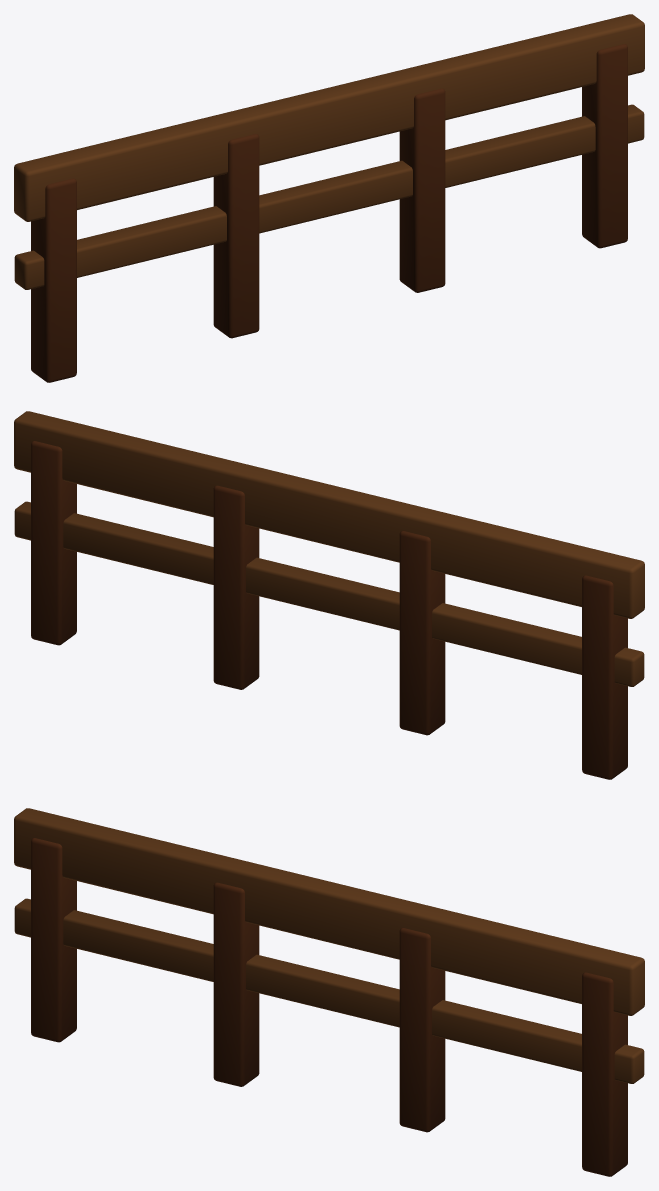
Rendered from wooden-railing-plank.obj.
3 views of the same model, one above another, from view 1: azimuth 30°, elevation 25°; view 2: azimuth 150°, elevation 25°; view 3: azimuth 330°, elevation 25° (orthographic).
Parts seen in each view (by area): view 1: wooden-railing-plank; view 2: wooden-railing-plank; view 3: wooden-railing-plank.
Part boxes in pixels (<box>): wooden-railing-plank: <box>14,14,644,382</box>; wooden-railing-plank: <box>14,411,644,779</box>; wooden-railing-plank: <box>14,808,644,1176</box>.
Size of the model in its own units: 1.8 by 0.595 by 0.09.
